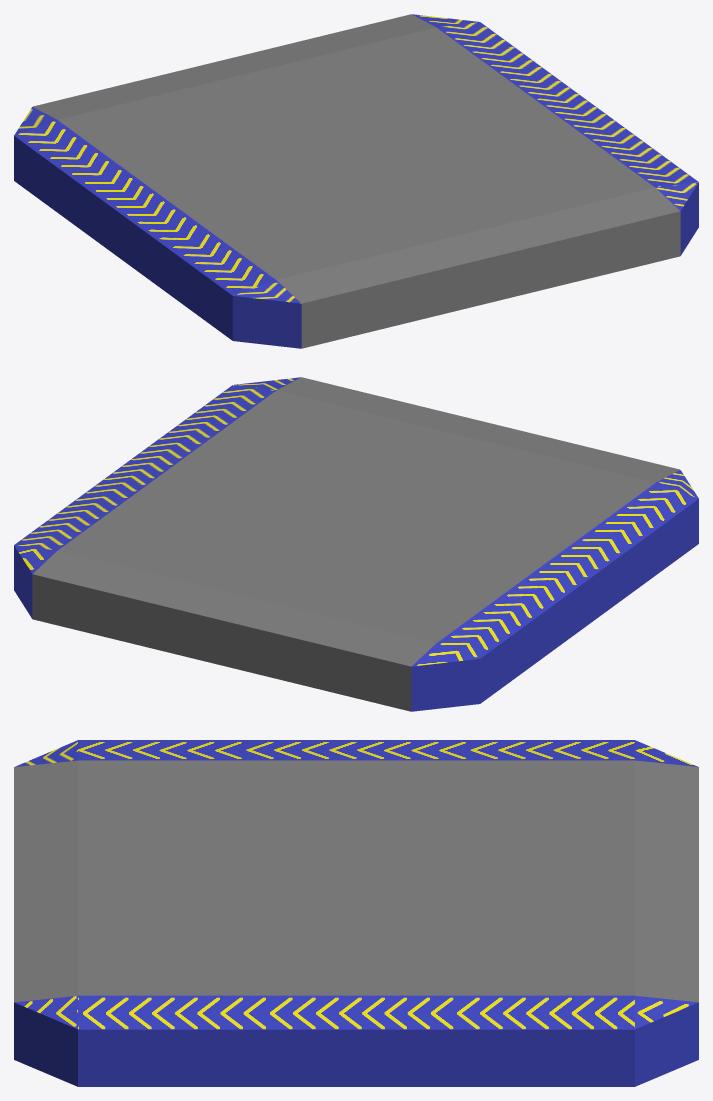
The model's file is Lift.gltf.
3 renders of one model, top to bottom at view 1: azimuth 30°, elevation 25°; view 2: azimuth 150°, elevation 25°; view 3: azimuth 270°, elevation 25°, orthographic. The views are drawn at different scales.
Parts seen in each view (by area): view 1: Cube; view 2: Cube; view 3: Cube.
Part boxes in pixels (left/top/right/bottom): Cube: left=14, top=14, right=698, bottom=348; Cube: left=14, top=377, right=698, bottom=711; Cube: left=14, top=740, right=698, bottom=1086.
Size of the model in its own units: 3.5 by 0.3985 by 3.5.
1 material, 1 textured.
